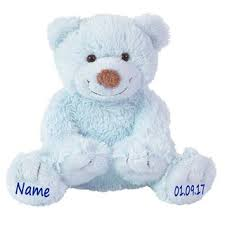teddy: (9, 7, 222, 216)
